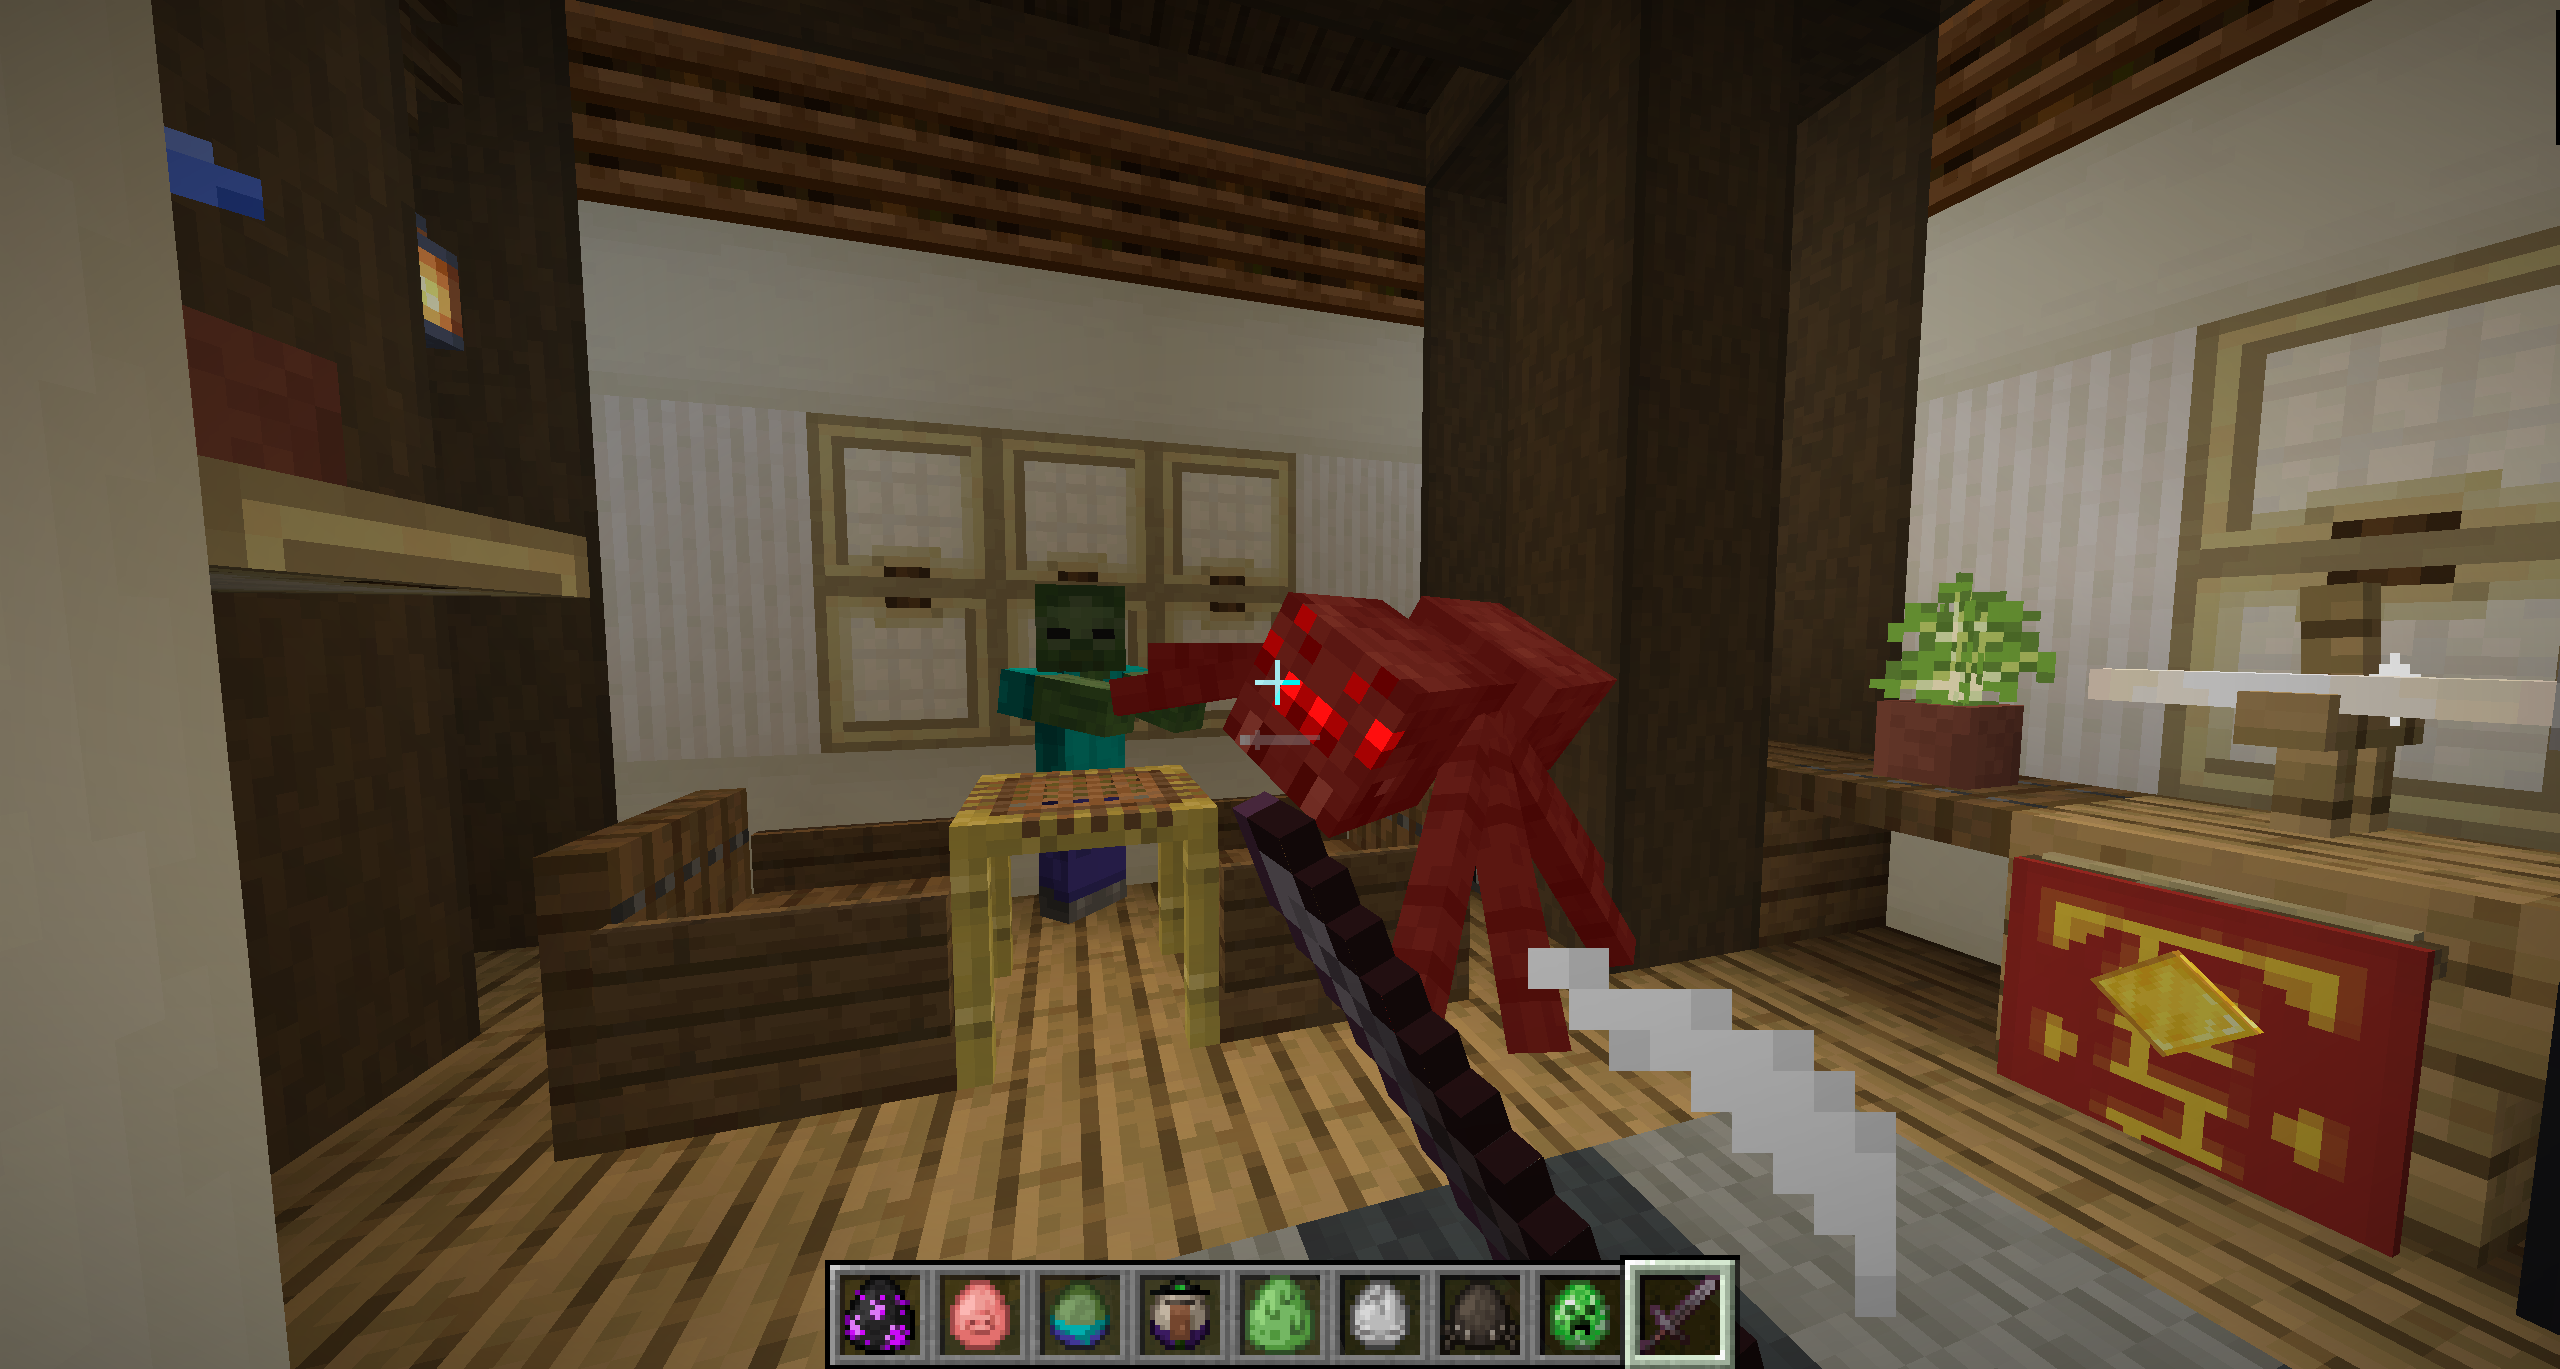araignees: (1177, 587, 1642, 1054)
zombies: (987, 562, 1212, 922)
